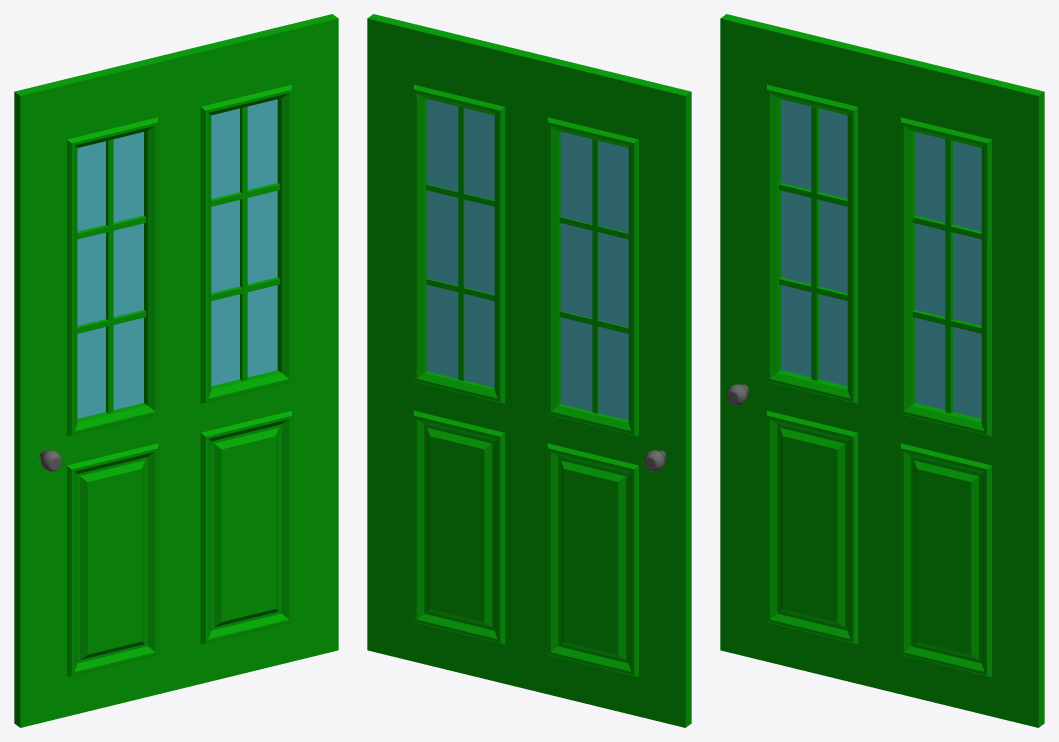
The model's file is Mesh_Door_01.FBX.
3 renders of one model, left to right at view 1: azimuth 30°, elevation 25°; view 2: azimuth 150°, elevation 25°; view 3: azimuth 330°, elevation 25°, orthographic.
Visible parts, largest first — view 1: Mesh_Door_01; view 2: Mesh_Door_01; view 3: Mesh_Door_01.
Part boxes in pixels (<box>): Mesh_Door_01: <box>14,14,338,727</box>; Mesh_Door_01: <box>367,14,691,727</box>; Mesh_Door_01: <box>720,14,1044,727</box>.
Size of the model in its own units: 120 by 228 by 19.06.
